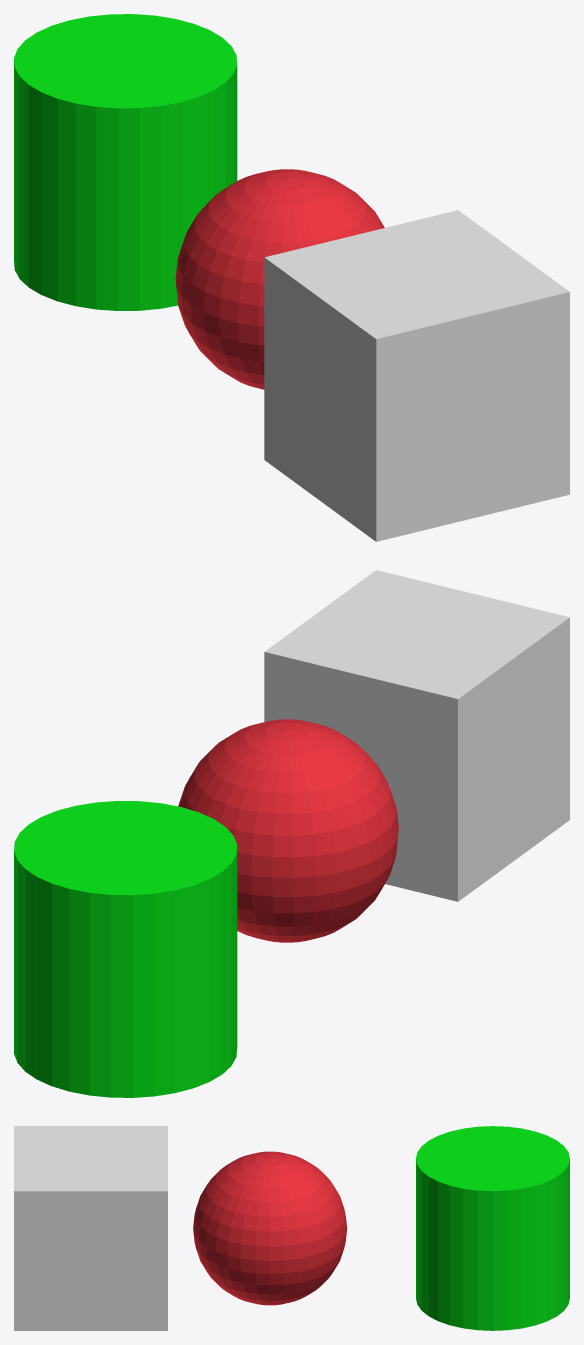
The picture shows the model from 3 angles, top to bottom: view 1: azimuth 30°, elevation 25°; view 2: azimuth 150°, elevation 25°; view 3: azimuth 270°, elevation 25°; orthographic projection. The views are drawn at different scales.
Parts seen in each view (by area): view 1: Cube, Cylinder, Sphere; view 2: Cube, Cylinder, Sphere; view 3: Cube, Cylinder, Sphere.
Part boxes in pixels (x1,y1,x2,y2): Cube: (264, 210, 569, 541); Cylinder: (14, 14, 237, 310); Sphere: (175, 169, 384, 389); Cube: (264, 570, 569, 901); Cylinder: (14, 801, 237, 1097); Sphere: (178, 719, 398, 942); Cube: (14, 1126, 167, 1330); Cylinder: (416, 1126, 569, 1330); Sphere: (193, 1151, 347, 1305).
Bounding box in the file's own units: 2 × 2 × 7.21.
